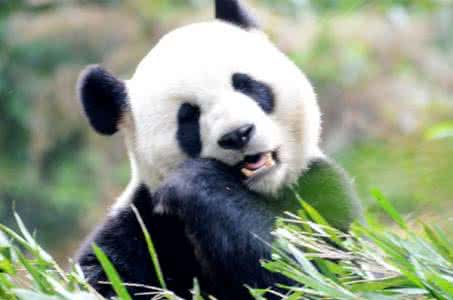panda: (74, 1, 369, 300)
